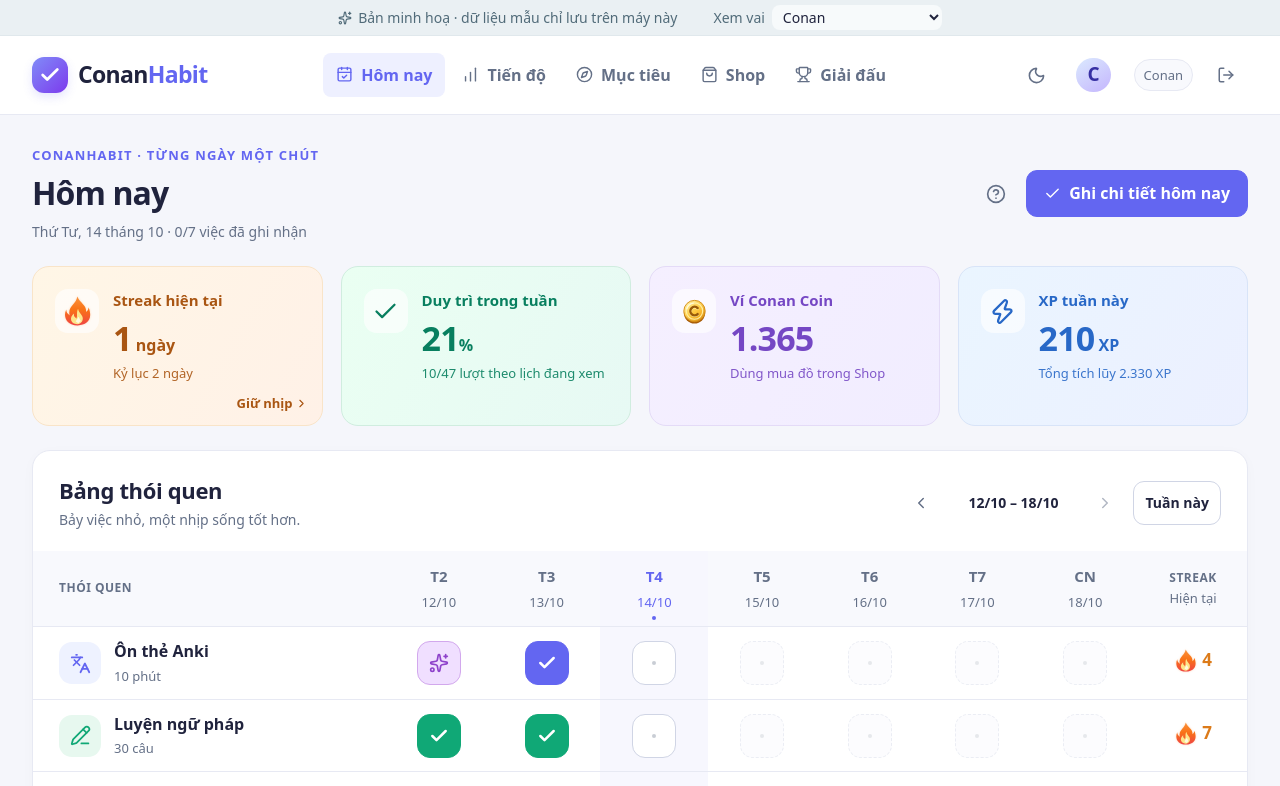
Scenario: working app flows in a local DOM › does not pretend a failed save succeeded
Check: the heading "Hôm nay" is shown, box [32,171,168,214]
Step 1. Click the checkbox named "Ôn thẻ Anki, Thứ Tư, 14 tháng 10: Chưa ghi nhận" → (654, 663), box [632,641,676,685]
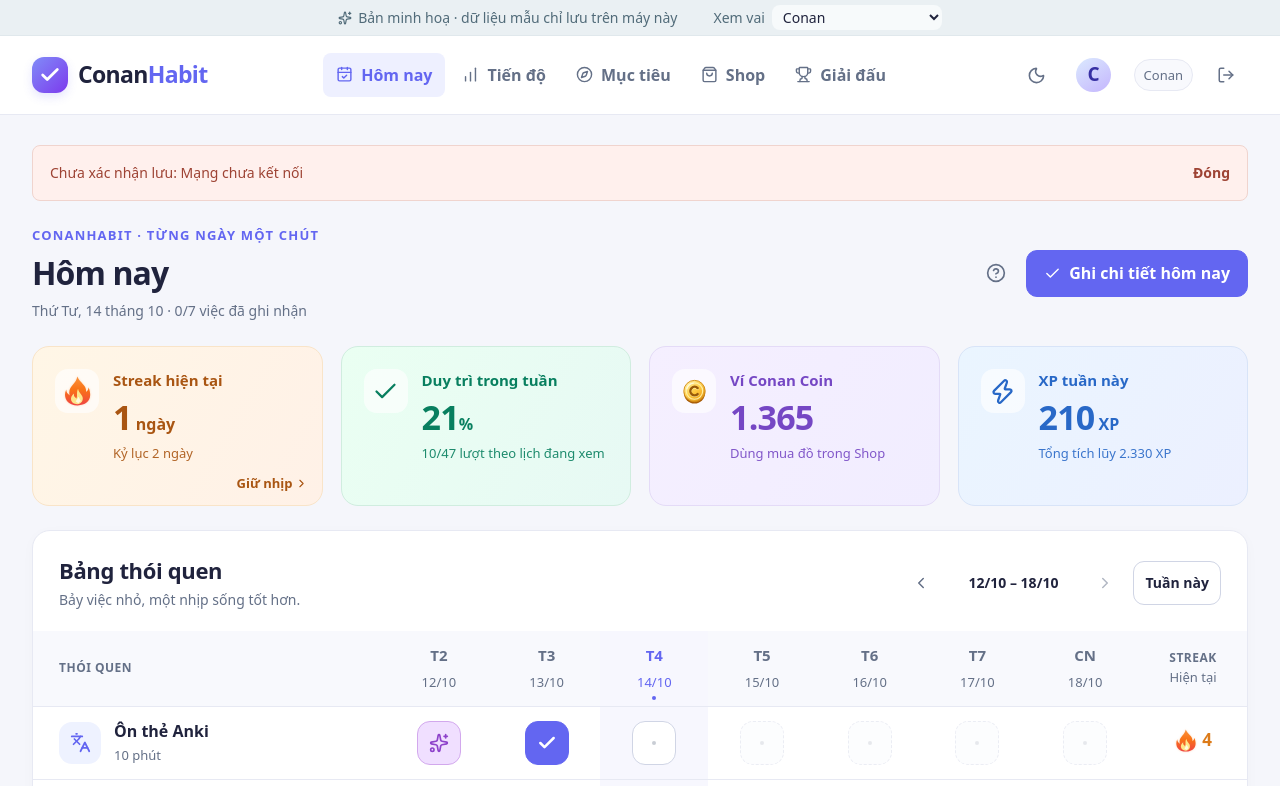
Check: the text "Chưa xác nhận lưu: Mạng chưa kết nối" is shown, box [50,162,303,184]
